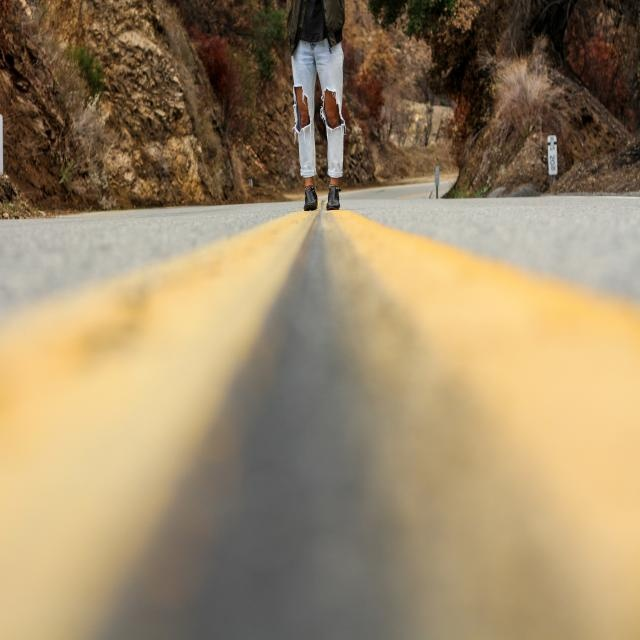ripped_pants: (283, 24, 348, 183)
